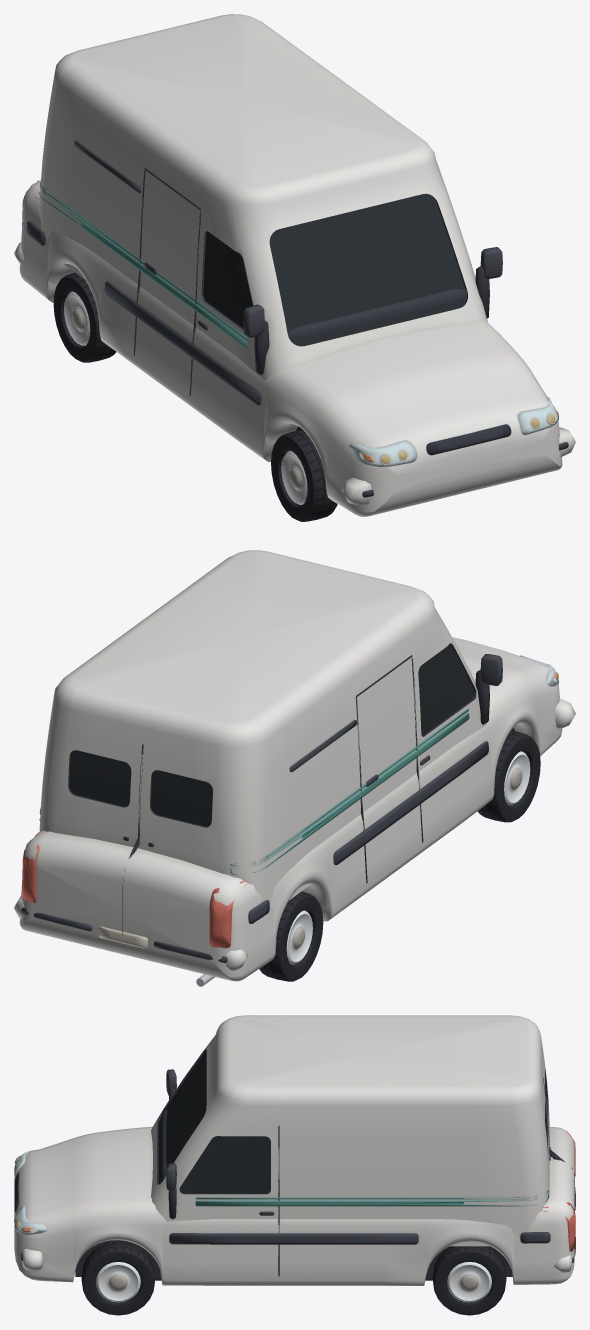
The model's file is car_van.glb.
3 views of the same model, one above another, from view 1: azimuth 30°, elevation 25°; view 2: azimuth 150°, elevation 25°; view 3: azimuth 270°, elevation 25° (orthographic). The views are drawn at different scales.
Parts seen in each view (by area): view 1: 1990s-delivery-van_body, 1990s-delivery-van_windows, 1990s-delivery-van_wheel_fr, 1990s-delivery-van_wheel_rr; view 2: 1990s-delivery-van_body, 1990s-delivery-van_windows, 1990s-delivery-van_wheel_fr, 1990s-delivery-van_wheel_rr; view 3: 1990s-delivery-van_body, 1990s-delivery-van_windows, 1990s-delivery-van_wheel_fl, 1990s-delivery-van_wheel_rl.
Boxes of the visible parts, x1,y1,x2,y2 form: 1990s-delivery-van_body: [14, 14, 575, 516]; 1990s-delivery-van_windows: [203, 194, 466, 346]; 1990s-delivery-van_wheel_fr: [271, 429, 337, 521]; 1990s-delivery-van_wheel_rr: [53, 272, 115, 362]; 1990s-delivery-van_body: [14, 550, 575, 986]; 1990s-delivery-van_windows: [69, 643, 474, 826]; 1990s-delivery-van_wheel_fr: [477, 730, 540, 822]; 1990s-delivery-van_wheel_rr: [259, 891, 323, 981]; 1990s-delivery-van_body: [14, 1015, 575, 1285]; 1990s-delivery-van_windows: [158, 1051, 546, 1193]; 1990s-delivery-van_wheel_fl: [81, 1241, 155, 1315]; 1990s-delivery-van_wheel_rl: [432, 1246, 506, 1315].
Size of the model in its own units: 2.07 by 2.11 by 4.87.
6 materials, 2 textured.
